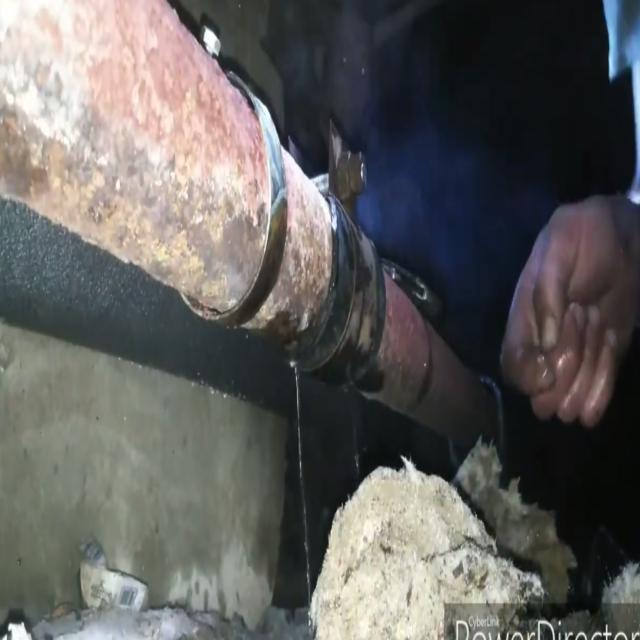leak: (294, 362, 311, 607)
